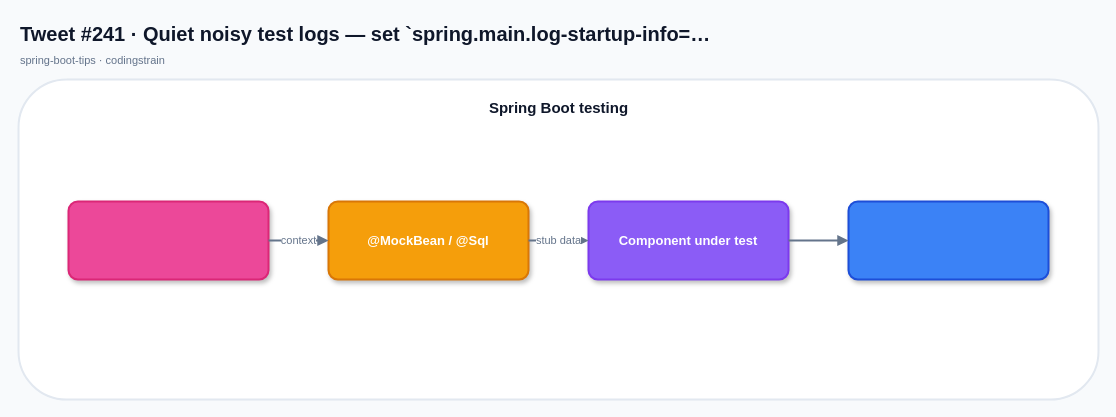
This 1116x417 diagram has some shape labels left out. The centre of each missing label's shape, as x and y in pixels:
@SpringBootTest: (169,241)
Assertions: (949,241)
